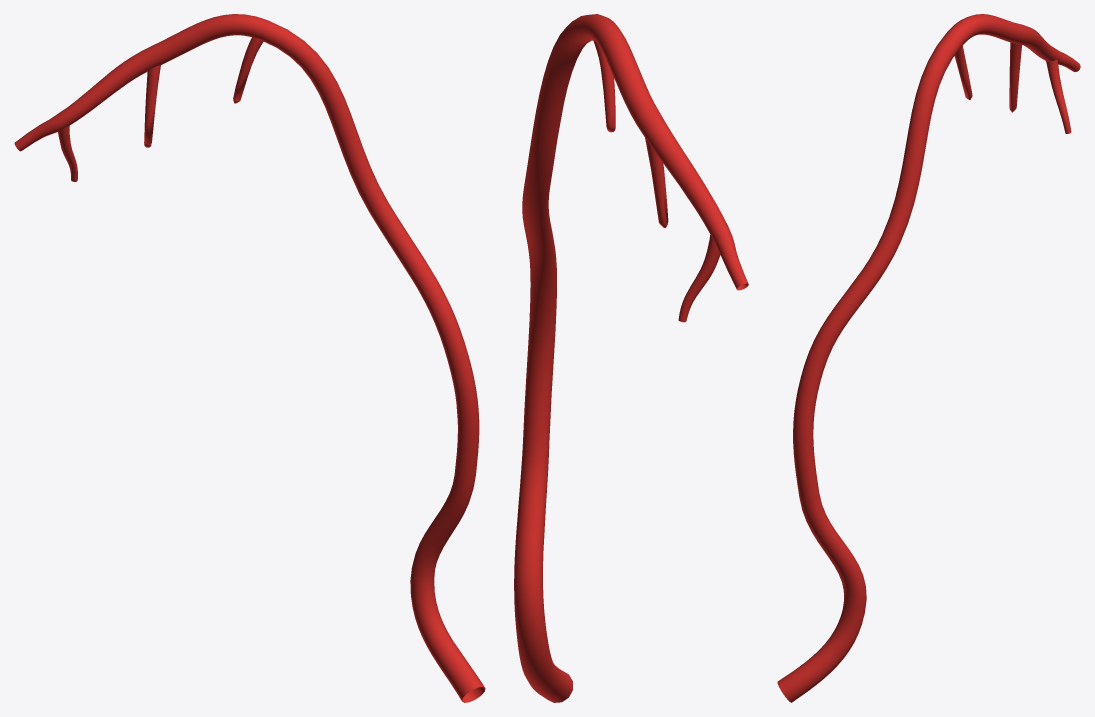
Rendered from circulatorio-inferior-suprarenal-artery-r.glb.
3 views of the same model, side by side, from view 1: azimuth 30°, elevation 25°; view 2: azimuth 150°, elevation 25°; view 3: azimuth 270°, elevation 25° (orthographic). The views are drawn at different scales.
Parts seen in each view (by area): view 1: Inferior suprarenal artery.r; view 2: Inferior suprarenal artery.r; view 3: Inferior suprarenal artery.r.
Boxes of the visible parts, x1,y1,x2,y2 form: Inferior suprarenal artery.r: (14, 14, 485, 702); Inferior suprarenal artery.r: (514, 14, 748, 702); Inferior suprarenal artery.r: (777, 14, 1080, 702).
Size of the model in its own units: 0.0274 by 0.0533 by 0.0236.
